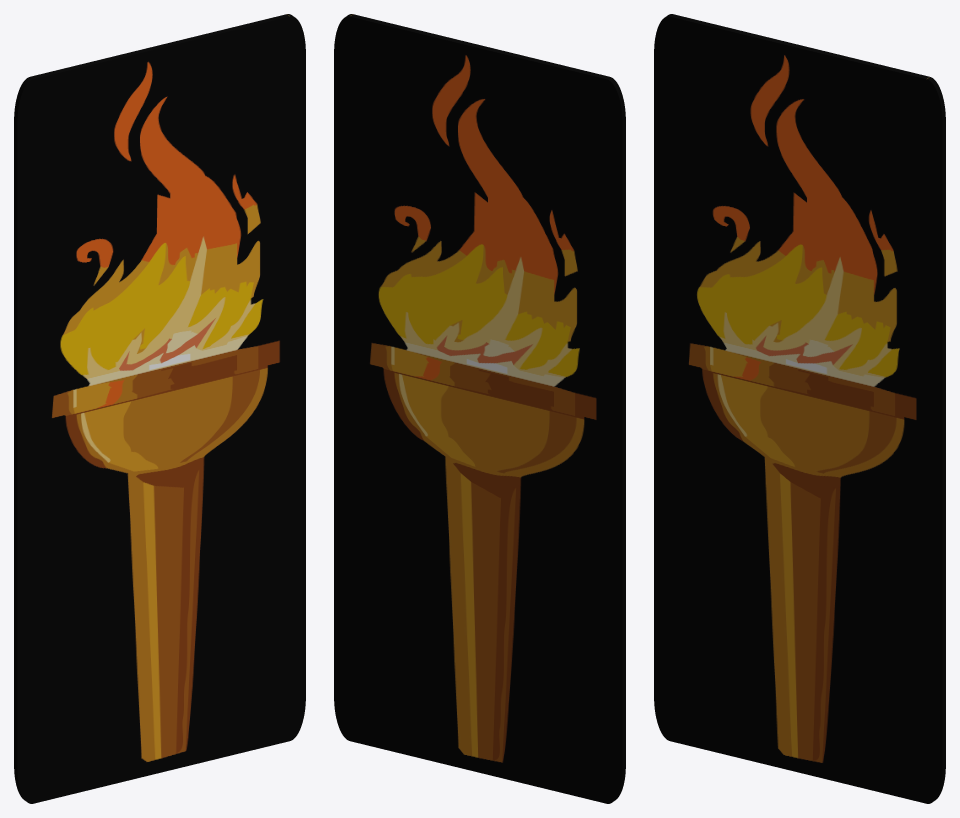
File: TorchCard.glb
3 views of the same model, side by side, from view 1: azimuth 30°, elevation 25°; view 2: azimuth 150°, elevation 25°; view 3: azimuth 330°, elevation 25° (orthographic).
Parts seen in each view (by area): view 1: Cube; view 2: Cube; view 3: Cube.
Part boxes in pixels (x1,y1,x2,y2): Cube: (14, 14, 305, 803); Cube: (334, 14, 625, 803); Cube: (654, 14, 945, 803).
Bounding box in the file's own units: 1 × 2.4 × 0.02.
Materials: 2 (1 with a texture image).
